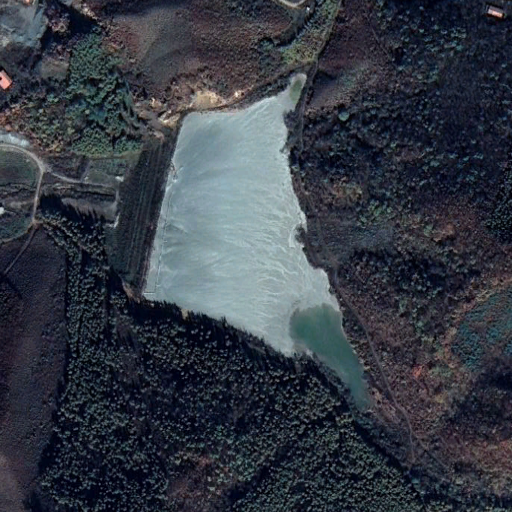tp: (114, 74, 373, 411)
